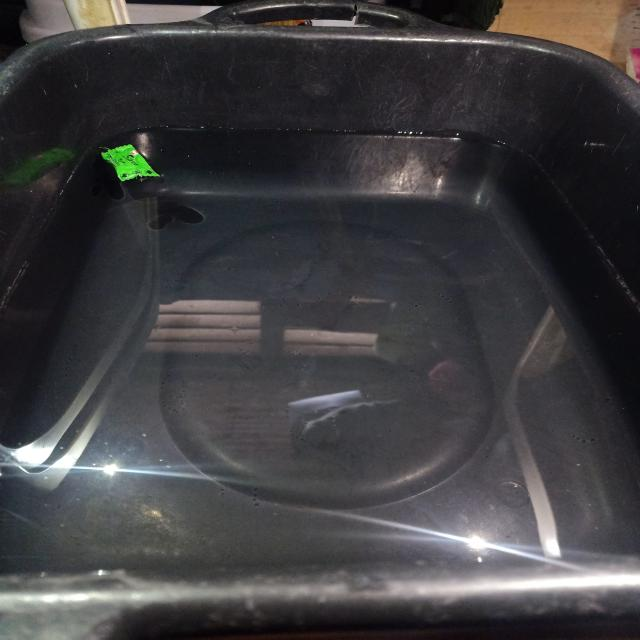Plastic Wrapper: (101, 144, 159, 181)
